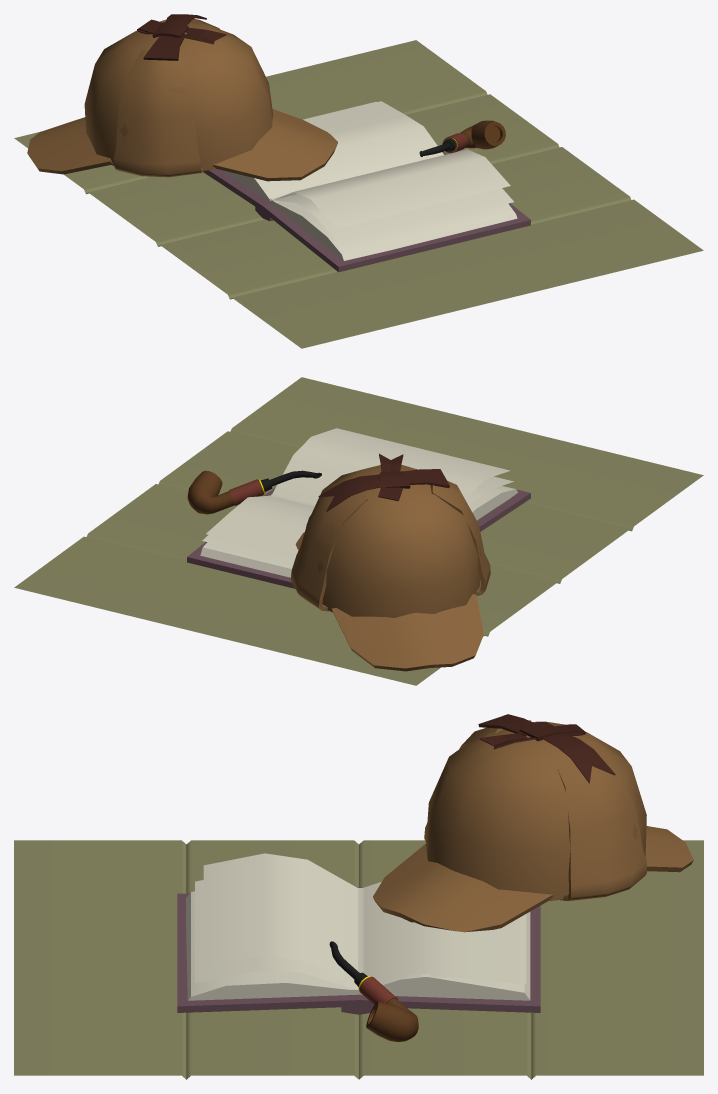
Rendered from Sherlock.fbx.
The picture shows the model from 3 angles, top to bottom: view 1: azimuth 30°, elevation 25°; view 2: azimuth 150°, elevation 25°; view 3: azimuth 270°, elevation 25°; orthographic projection. The views are drawn at different scales.
Parts seen in each view (by area): view 1: pPlane15, pSphere1, pPlane14, pPlane16, pPlane9, pPlane12, pCube2, pCube1, pPlane13, polySurface1, pPlane6; view 2: pPlane15, pSphere1, pPlane9, pPlane14, pPlane12, pPlane3, pCube2, pCube1, polySurface1, pPlane16, pPlane4, pPlane10 (+2 smaller); view 3: pPlane15, pSphere1, pPlane14, pPlane9, pPlane3, pPlane12, pCube2, pCube1, pPlane13, polySurface1, pPlane4, pPlane10 (+2 smaller).
Boxes of the visible parts, x1,y1,x2,y2 form: pPlane15: (14,40,703,348); pSphere1: (84,23,273,170); pPlane14: (273,149,510,228); pPlane16: (114,49,203,177); pPlane9: (27,109,337,181); pPlane12: (254,101,443,200); pCube2: (221,170,517,260); pCube1: (203,151,530,272); pPlane13: (273,188,513,244); polySurface1: (442,120,505,152); pPlane6: (143,34,185,60); pPlane15: (14,377,703,685); pSphere1: (306,465,481,617); pPlane9: (295,532,483,671); pPlane14: (272,428,510,504); pPlane12: (206,495,314,555); pPlane3: (290,491,367,611); pCube2: (200,486,517,577); pCube1: (187,488,530,588); polySurface1: (187,470,265,514); pPlane16: (430,481,490,595); pPlane4: (318,474,380,511); pPlane10: (202,535,295,563); pPlane15: (14,840,703,1079); pSphere1: (425,721,646,900); pPlane14: (203,853,357,989); pPlane9: (373,826,693,932); pPlane3: (552,743,646,900); pPlane12: (363,881,515,984); pCube2: (186,888,530,1000); pCube1: (177,887,540,1012); pPlane13: (195,880,356,989); polySurface1: (358,976,418,1041); pPlane4: (542,733,615,783); pPlane10: (382,914,526,984).
Bounding box in the file's own units: 20.39 × 6.57 × 24.18.
